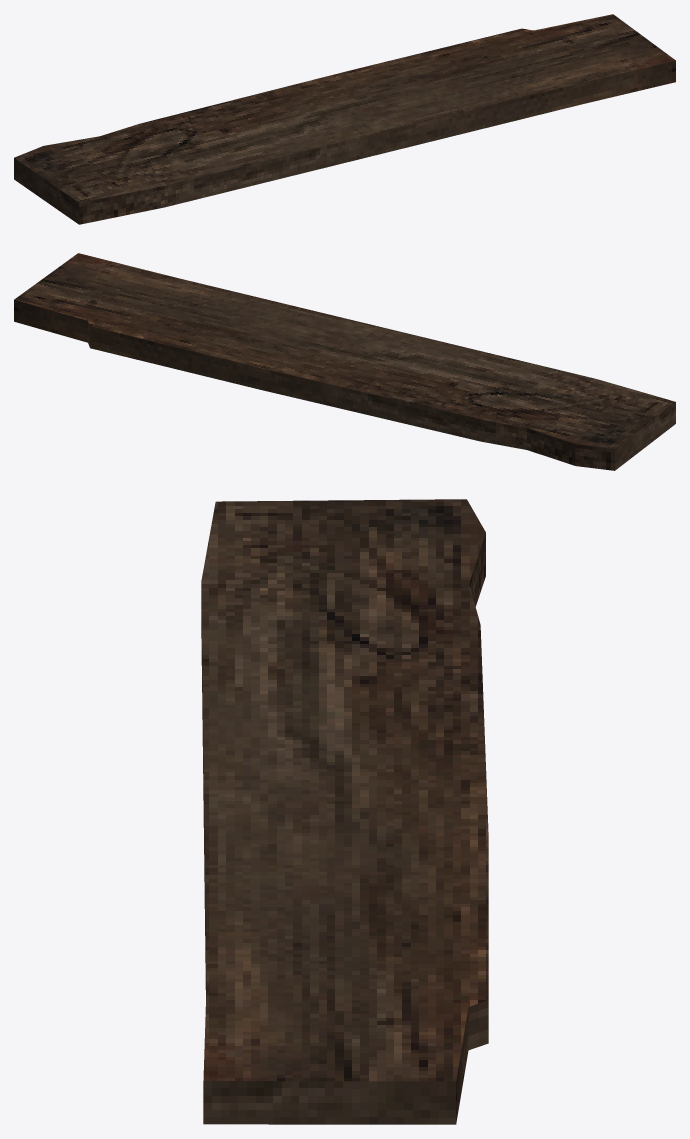
The model's file is wooden_plank_5.glb.
3 views of the same model, one above another, from view 1: azimuth 30°, elevation 25°; view 2: azimuth 150°, elevation 25°; view 3: azimuth 270°, elevation 25° (orthographic). The views are drawn at different scales.
Parts seen in each view (by area): view 1: wooden_plank_5; view 2: wooden_plank_5; view 3: wooden_plank_5.
Part boxes in pixels (bbox=[...]): wooden_plank_5: bbox=[14, 14, 675, 224]; wooden_plank_5: bbox=[14, 253, 675, 470]; wooden_plank_5: bbox=[201, 499, 488, 1124].
Size of the model in its own units: 0.864 by 0.03 by 0.1802.
1 material, 1 textured.
